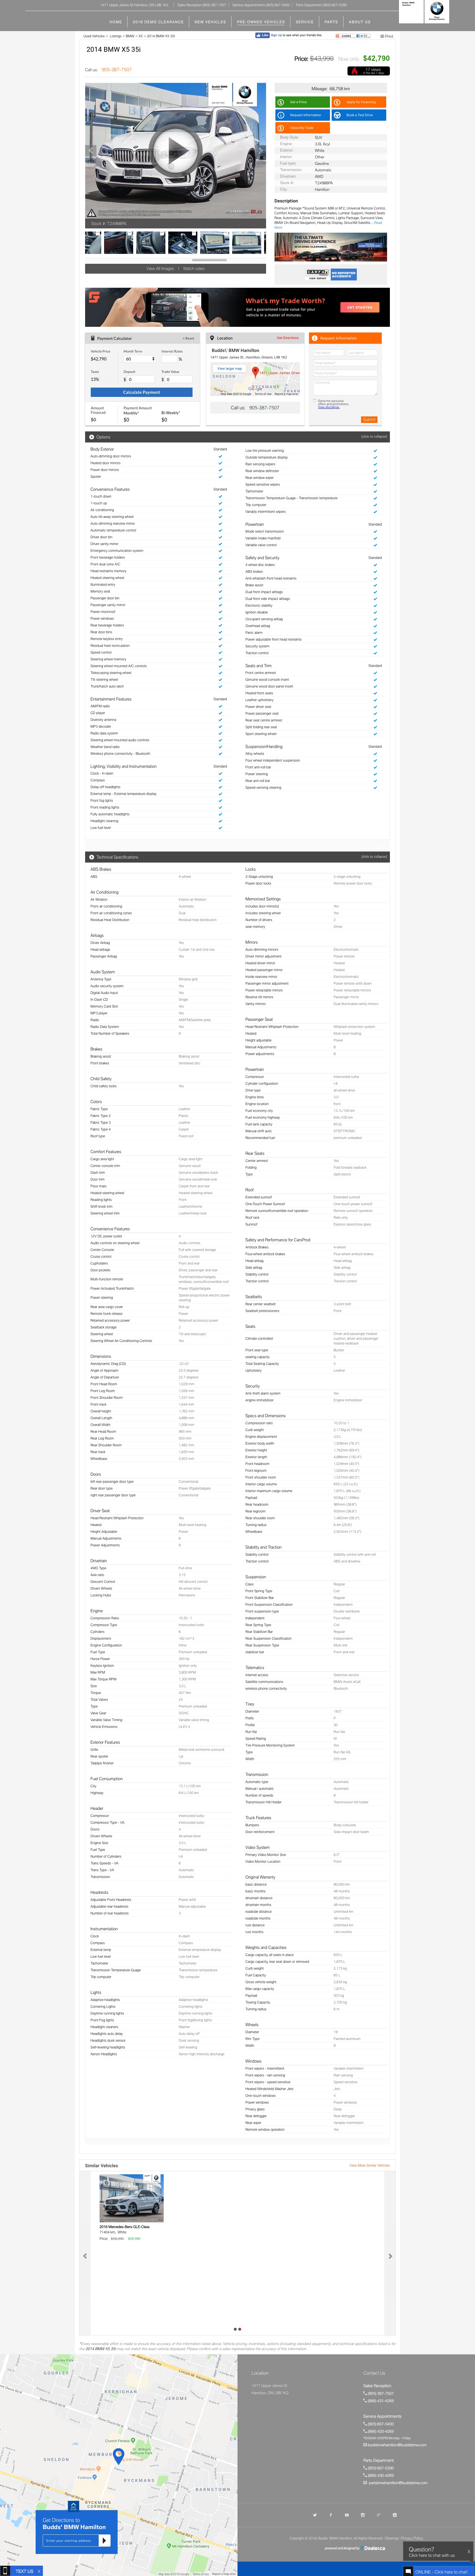car: (255, 145, 268, 158)
